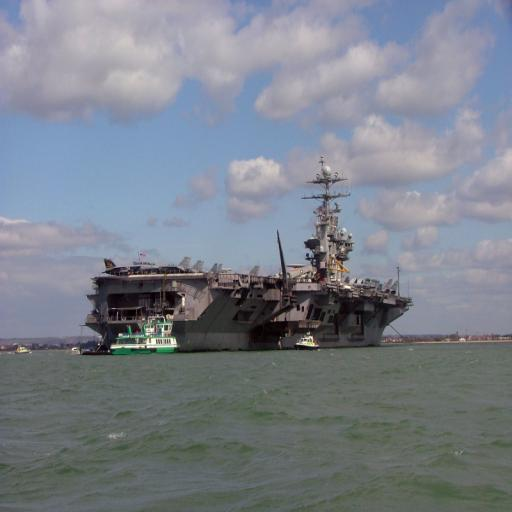Portanaves: (87, 155, 418, 352)
